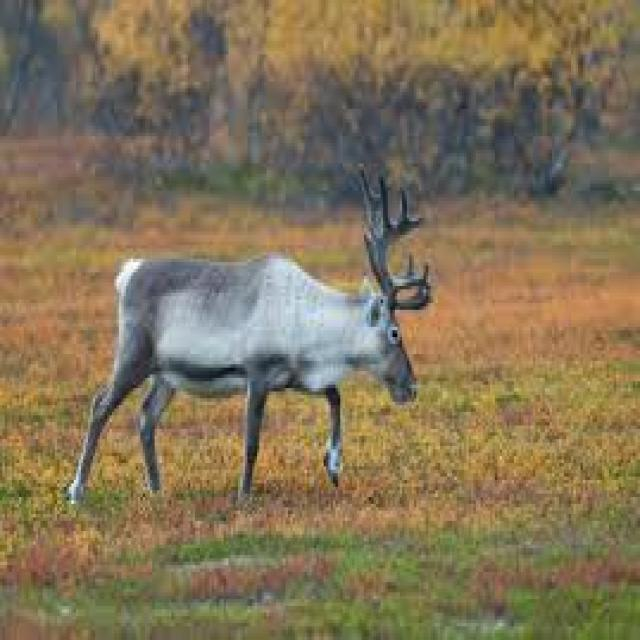Reindeer: (65, 154, 436, 521)
